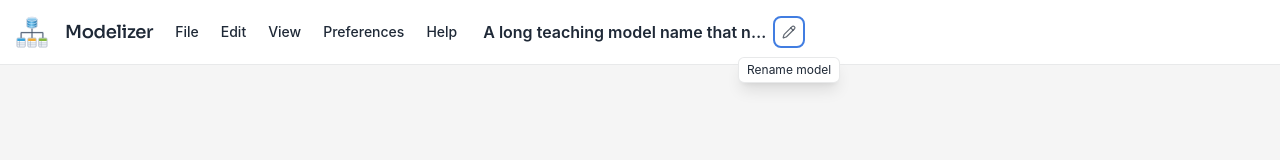
Test: keeps the complete model name available and supports keyboard rename, cancel, and commit
Expected: the text titled "A long teaching model name that needs to remain accessible on a narrow screen" is shown, top-left (483, 20), bottom-right (771, 44)
Press Enter
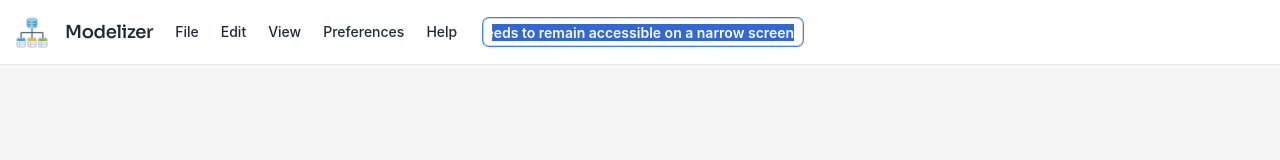
Expected: the field named "Model name" holds "A long teaching model name that needs to remain accessible on a narrow screen"
Replace the text in the field named "Model name" with "Temporary title" at (643, 32), box top-left (483, 18), bottom-right (803, 46)
Then press Escape
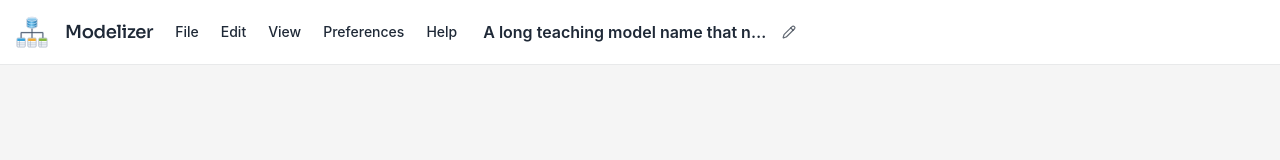
Expected: the text titled "A long teaching model name that needs to remain accessible on a narrow screen" is shown, top-left (483, 20), bottom-right (771, 44)
Click the button named "Edit model name" at (789, 32), box top-left (775, 18), bottom-right (803, 46)
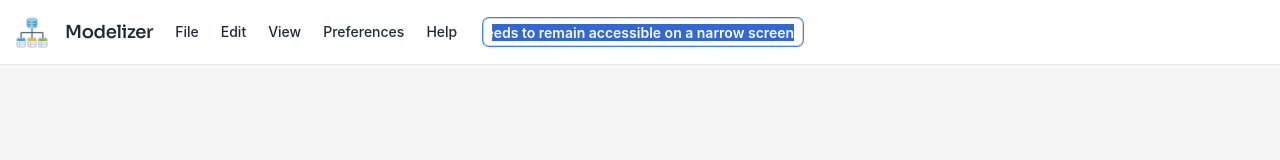
Replace the text in the field named "Model name" with "Lesson 2" at (643, 32), box top-left (483, 18), bottom-right (803, 46)
Then press Enter
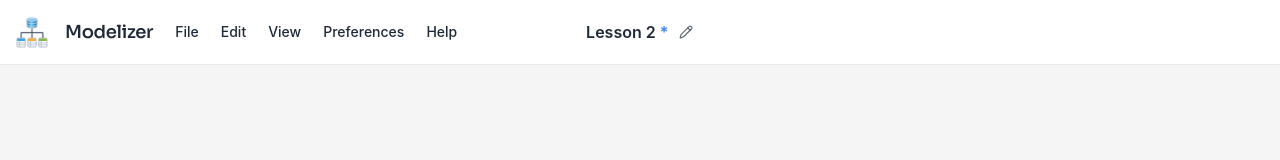
Expected: the text titled "Lesson 2" is shown, top-left (586, 20), bottom-right (656, 44)
Expected: the text named "Unsaved changes" reads "*", top-left (660, 22), bottom-right (668, 42)
